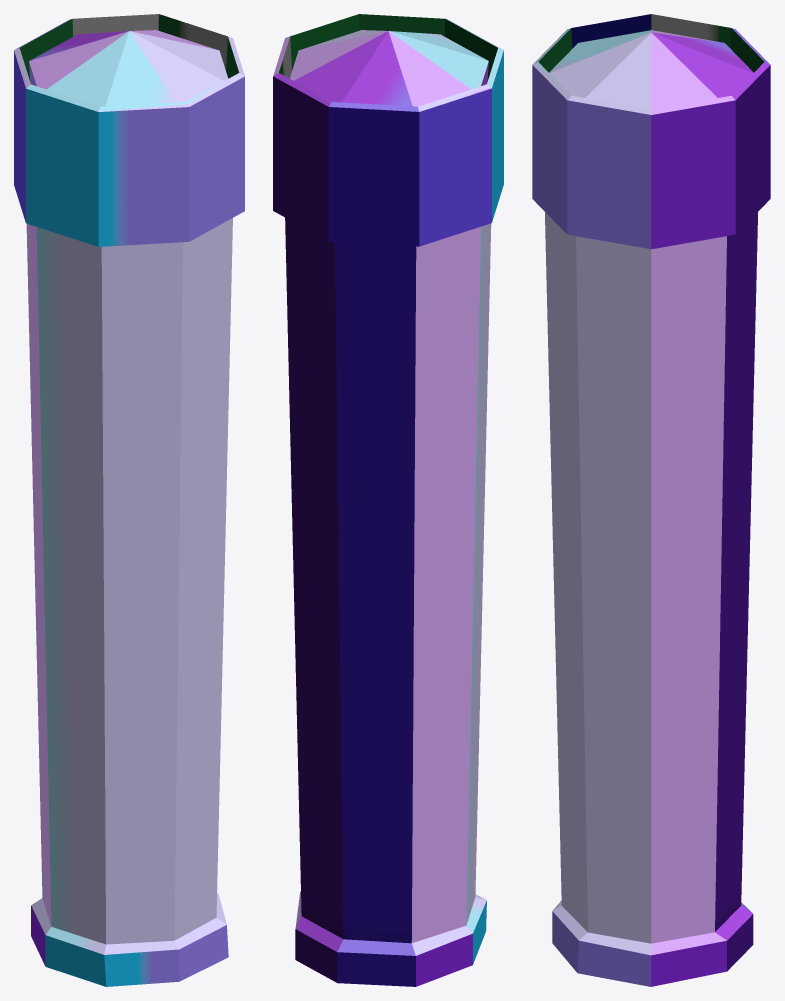
The model's file is 3d_ventilation_cylindar.fbx.
3 renders of one model, left to right at view 1: azimuth 30°, elevation 25°; view 2: azimuth 150°, elevation 25°; view 3: azimuth 270°, elevation 25°, orthographic.
Parts seen in each view (by area): view 1: GEO_Ventilation_Cylindar; view 2: GEO_Ventilation_Cylindar; view 3: GEO_Ventilation_Cylindar.
Boxes of the visible parts, x1,y1,x2,y2 form: GEO_Ventilation_Cylindar: (14,14,244,986); GEO_Ventilation_Cylindar: (273,14,503,986); GEO_Ventilation_Cylindar: (532,14,770,986).
Size of the model in its own units: 0.1886 by 0.1886 by 0.7973.
